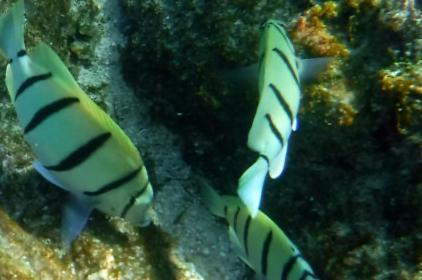Acanthuridae -Surgeonfishes-: (0, 0, 153, 251), (222, 17, 333, 218), (197, 174, 333, 280)
